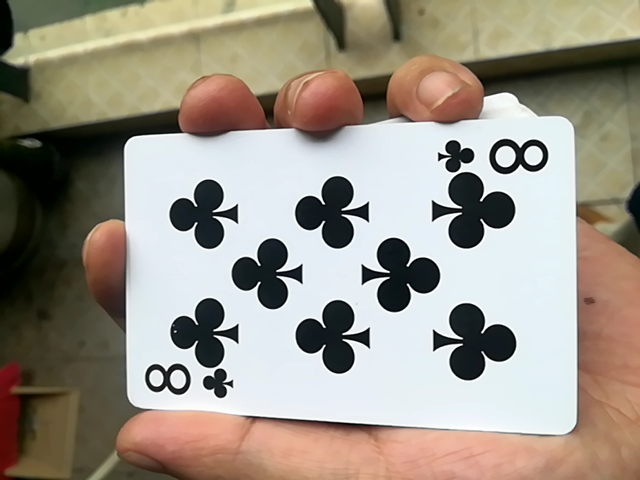mh 8: (112, 122, 566, 445)
